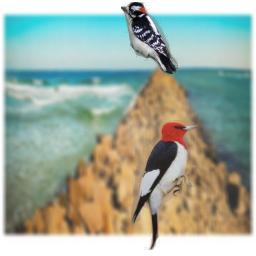Woodpecker: (131, 120, 198, 250), (121, 2, 178, 74)
